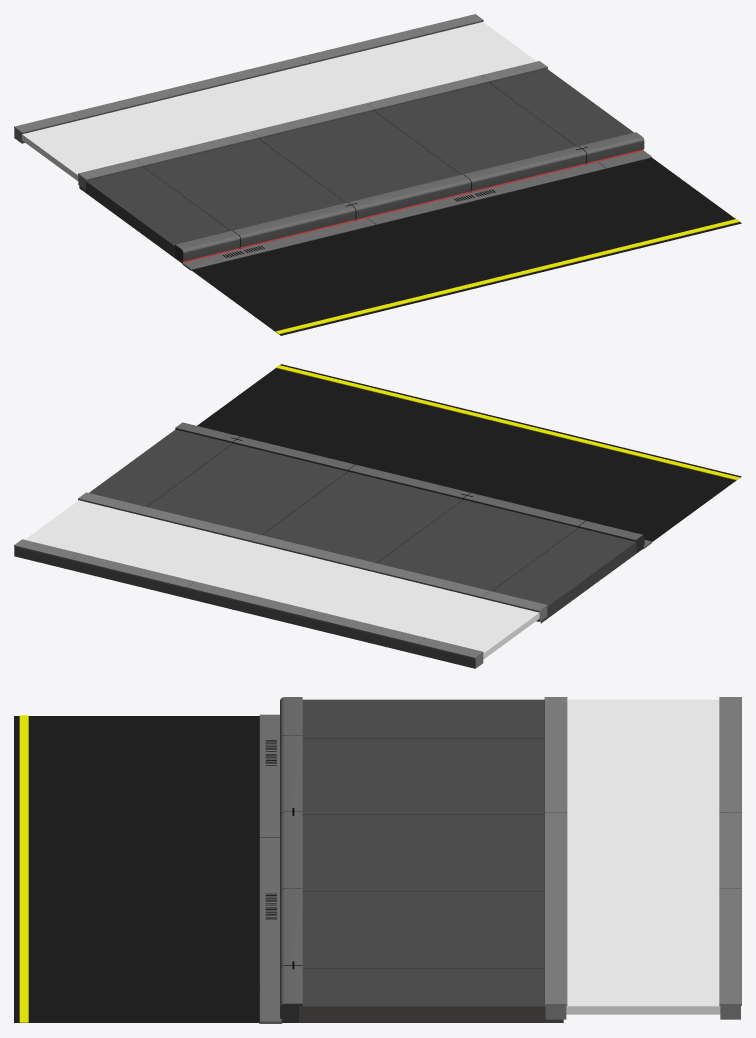
3 renders of one model, top to bottom at view 1: azimuth 30°, elevation 25°; view 2: azimuth 150°, elevation 25°; view 3: azimuth 270°, elevation 25°, orthographic. The views are drawn at different scales.
Parts seen in each view (by area): view 1: W_R_001_8x8_A; view 2: W_R_001_8x8_A; view 3: W_R_001_8x8_A.
Boxes of the visible parts, x1,y1,x2,y2 form: W_R_001_8x8_A: (14, 14, 741, 335); W_R_001_8x8_A: (14, 364, 741, 668); W_R_001_8x8_A: (14, 697, 741, 1023).
Bounding box in the file's own units: 8.01 × 0.2454 × 8.02.
